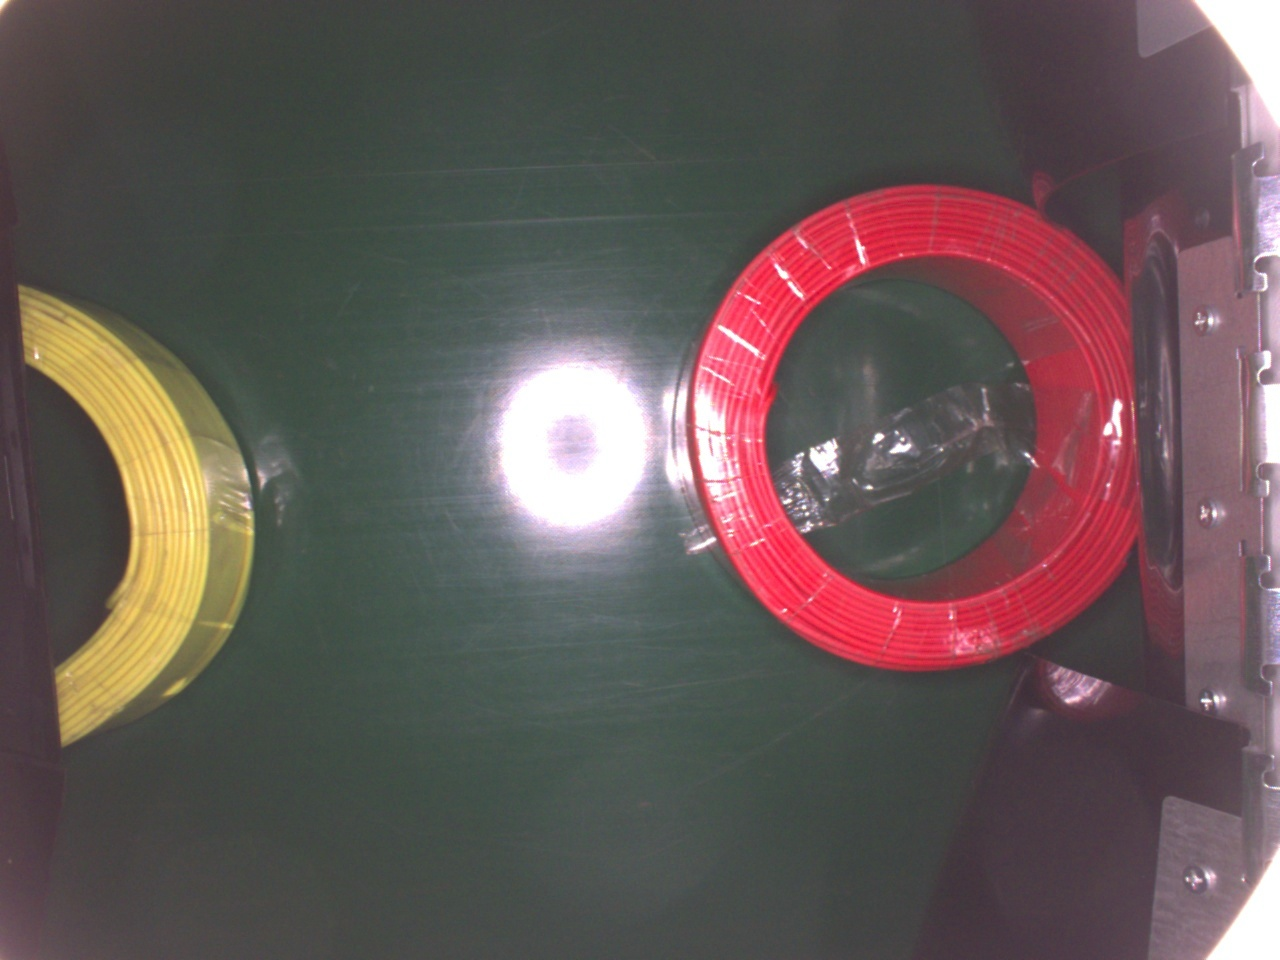red: (682, 183, 1137, 670)
yellow: (18, 284, 258, 744)
